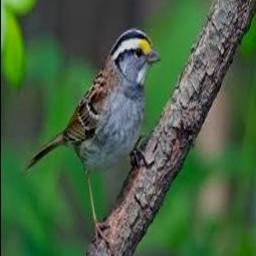Sparrow: (24, 28, 160, 248)
